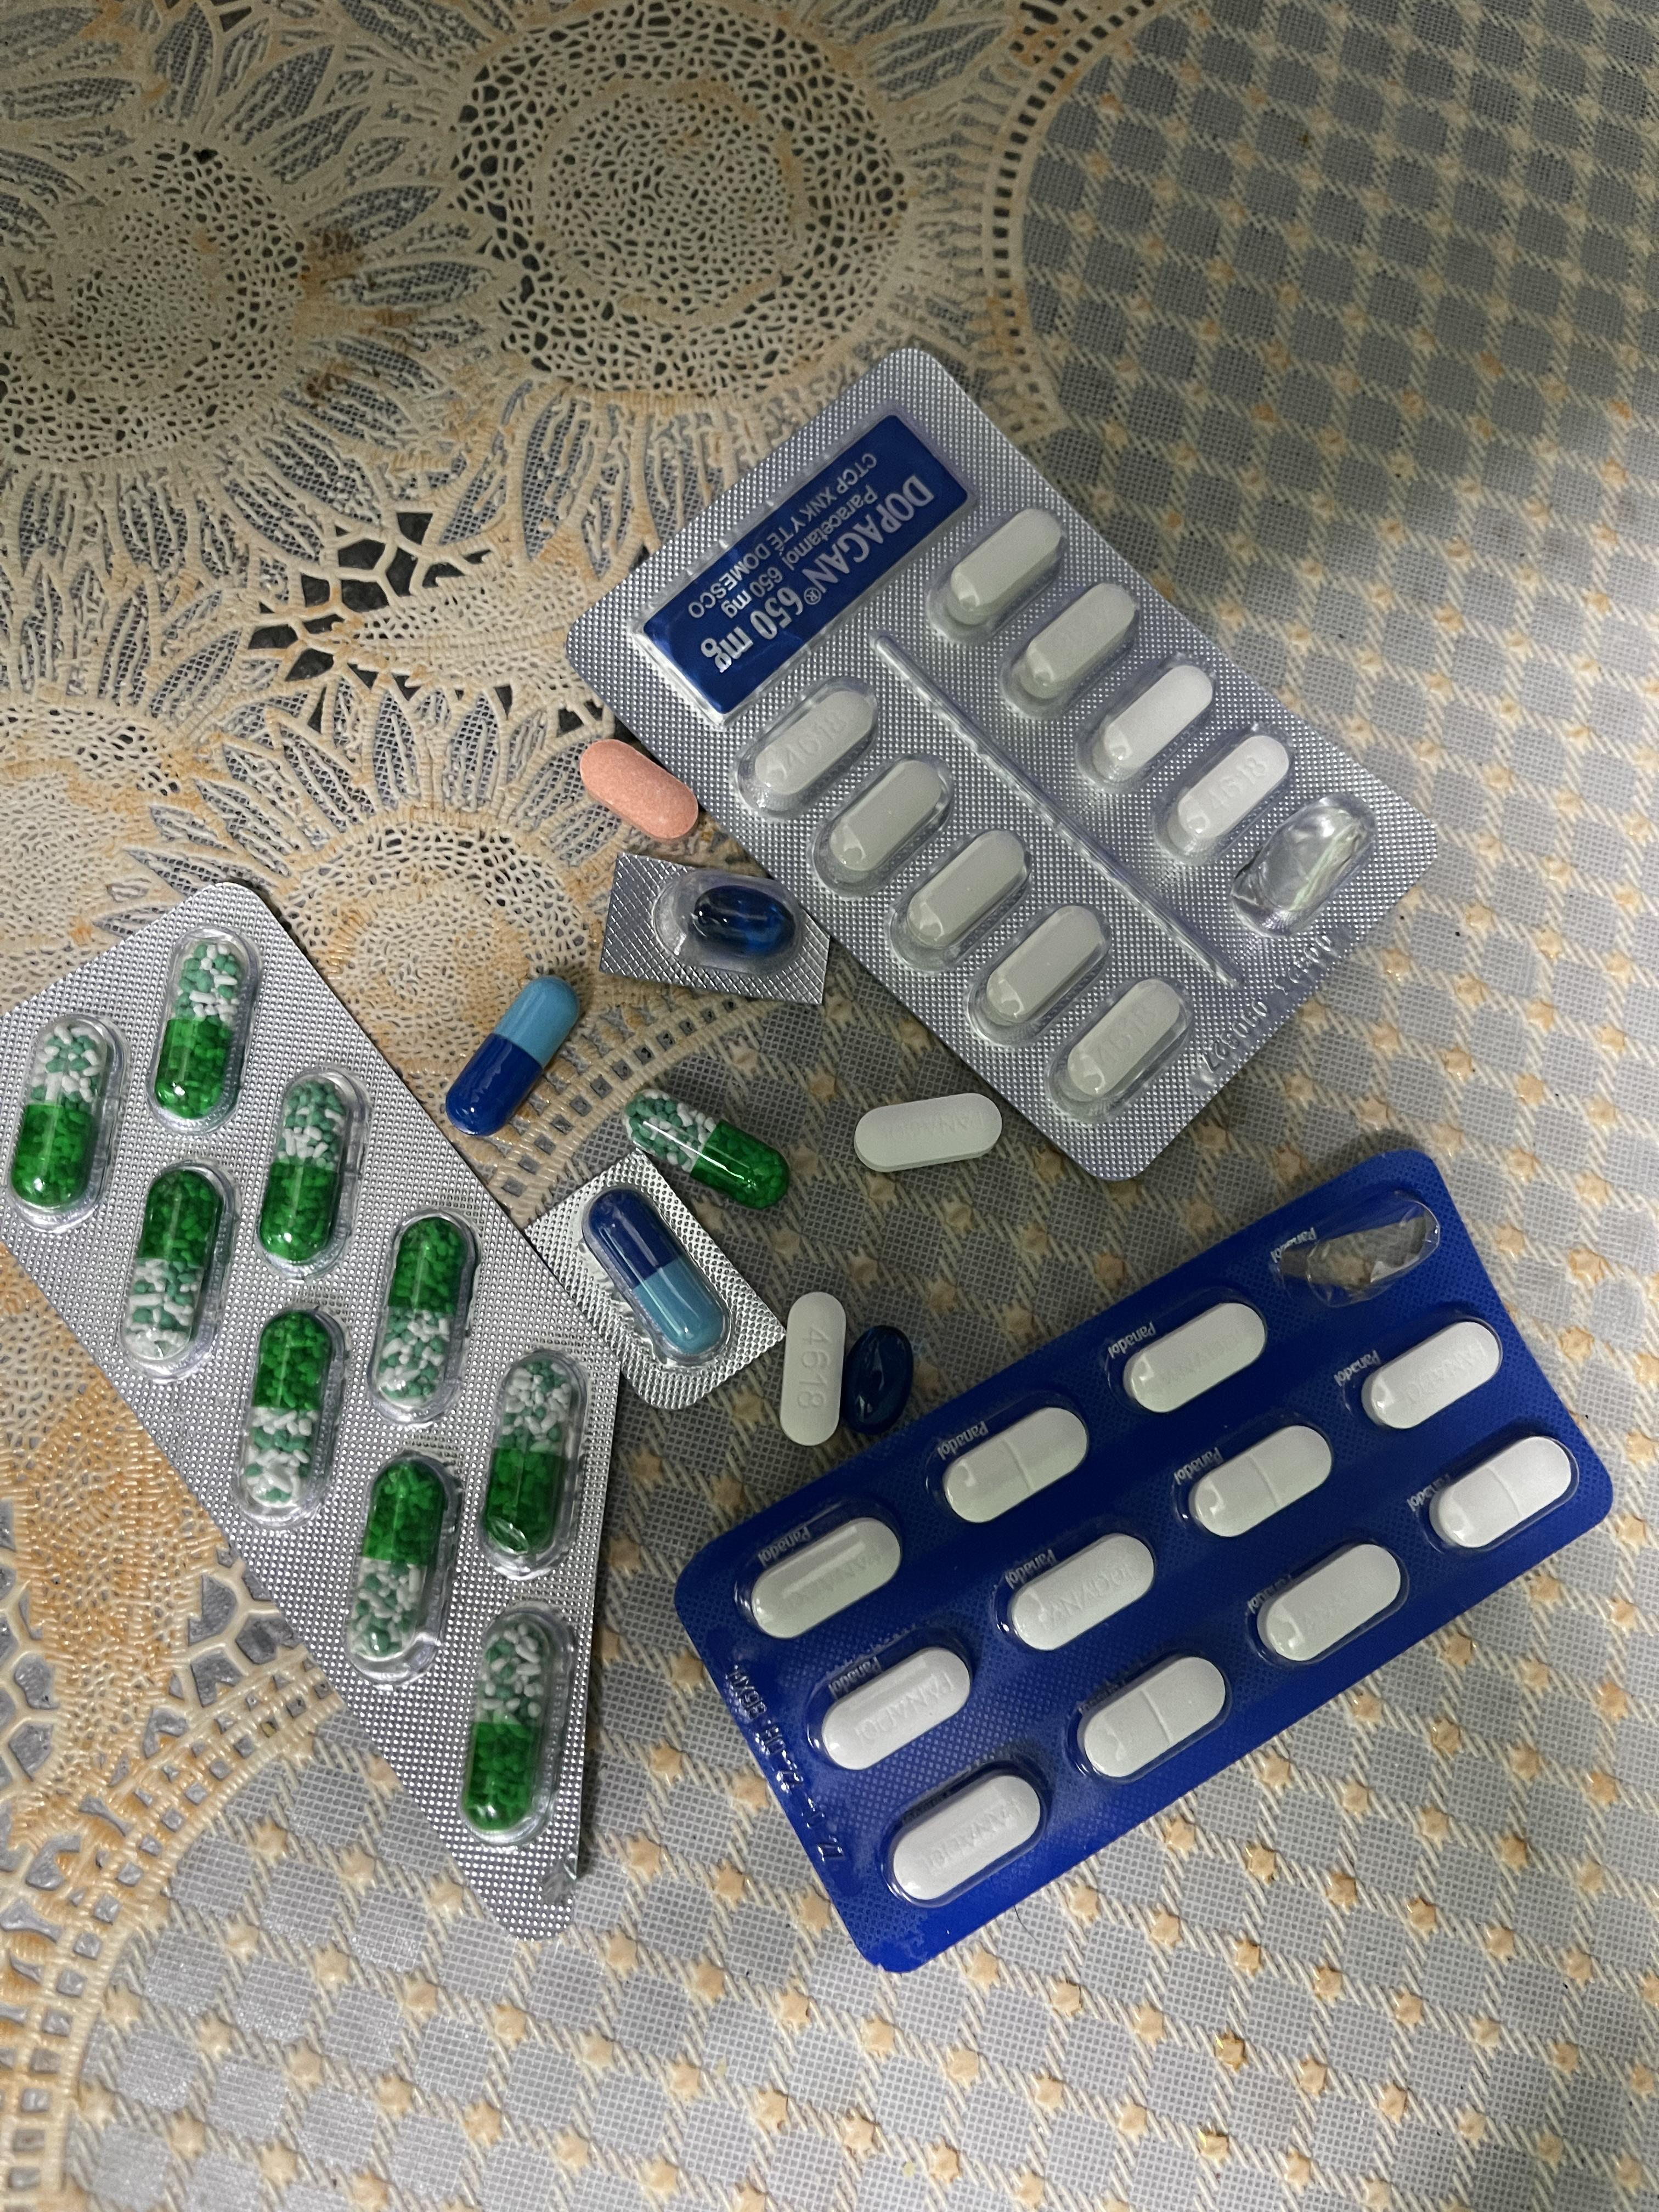Lincomyxin_500mg: (842, 1324, 913, 1435), (688, 885, 793, 953)
Loratadine_10mg: (580, 738, 701, 843)
Paracetamol_350mg: (889, 1766, 1046, 1907), (819, 1641, 972, 1773), (746, 1508, 899, 1641), (1079, 1653, 1232, 1784), (1255, 1543, 1410, 1672), (1006, 1531, 1159, 1653), (1429, 1433, 1581, 1554), (943, 1402, 1091, 1522), (1122, 1301, 1272, 1414), (1190, 1425, 1337, 1540), (1363, 1318, 1504, 1430), (852, 1096, 1004, 1174)
Paracetamol_500mg: (896, 826, 1032, 965), (1046, 972, 1185, 1108), (972, 902, 1110, 1036), (1079, 660, 1213, 796), (1004, 580, 1138, 716), (735, 671, 866, 810), (814, 756, 946, 890), (1157, 733, 1290, 864), (946, 505, 1065, 625), (777, 1294, 842, 1446)
Paracetamol_650mg: (458, 1611, 572, 1851), (345, 1453, 464, 1674), (119, 1163, 237, 1374), (7, 1014, 125, 1219), (232, 1312, 345, 1521), (474, 1357, 586, 1568), (371, 1214, 481, 1416), (148, 932, 261, 1122), (256, 1073, 364, 1268), (629, 1089, 791, 1205)
pill: (582, 1188, 732, 1366), (450, 977, 586, 1132)
